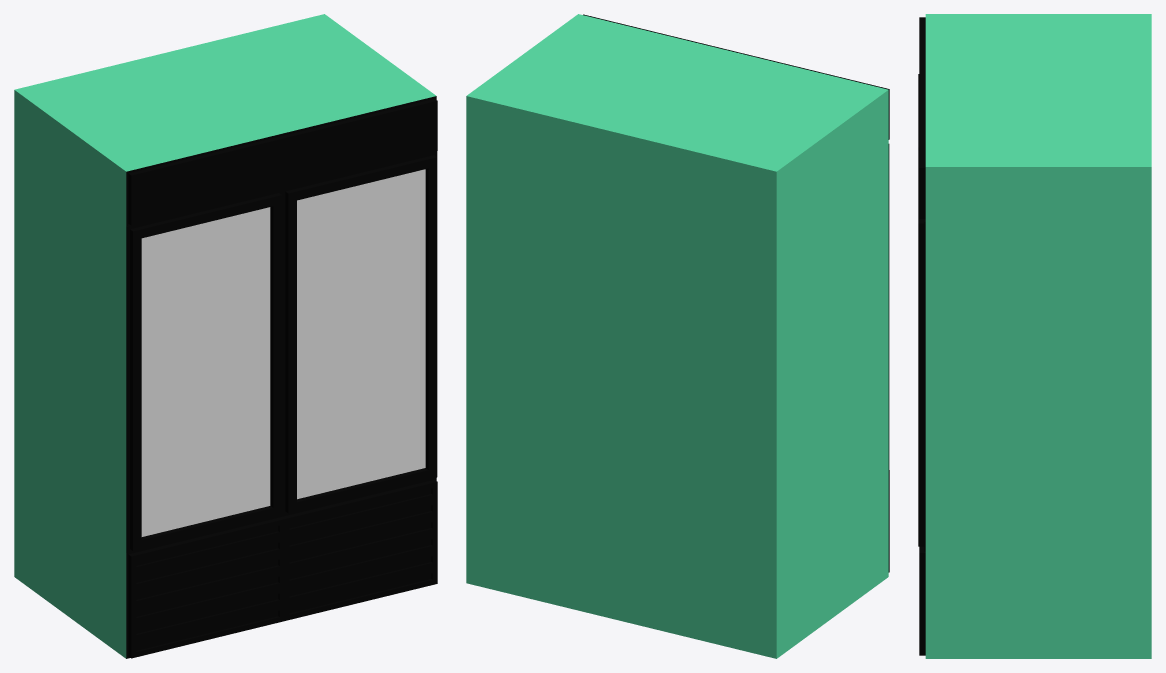
File: Lemari Es.fbx
The picture shows the model from 3 angles, left to right: view 1: azimuth 30°, elevation 25°; view 2: azimuth 150°, elevation 25°; view 3: azimuth 270°, elevation 25°; orthographic projection.
Parts seen in each view (by area): view 1: Cube.001, Cube.002; view 2: Cube.001, Cube.002; view 3: Cube.001, Cube.002.
Part boxes in pixels (x1,y1,x2,y2): Cube.001: (14,14,437,658); Cube.002: (126,151,437,552); Cube.001: (466,14,889,658); Cube.002: (888,144,889,470); Cube.001: (919,14,1151,658); Cube.002: (918,74,925,551).
Size of the model in its own units: 200 by 300 by 129.
